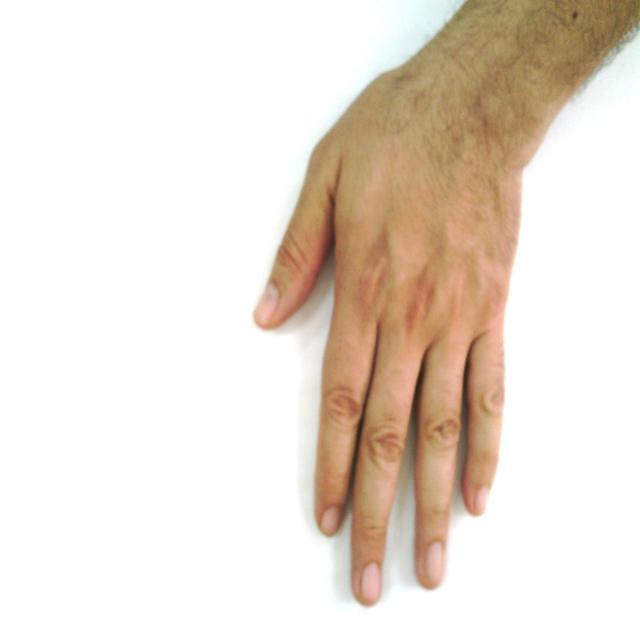Fingernail: (255, 283, 279, 323), (361, 564, 381, 604), (426, 542, 444, 585), (322, 507, 341, 536), (475, 487, 488, 513)
